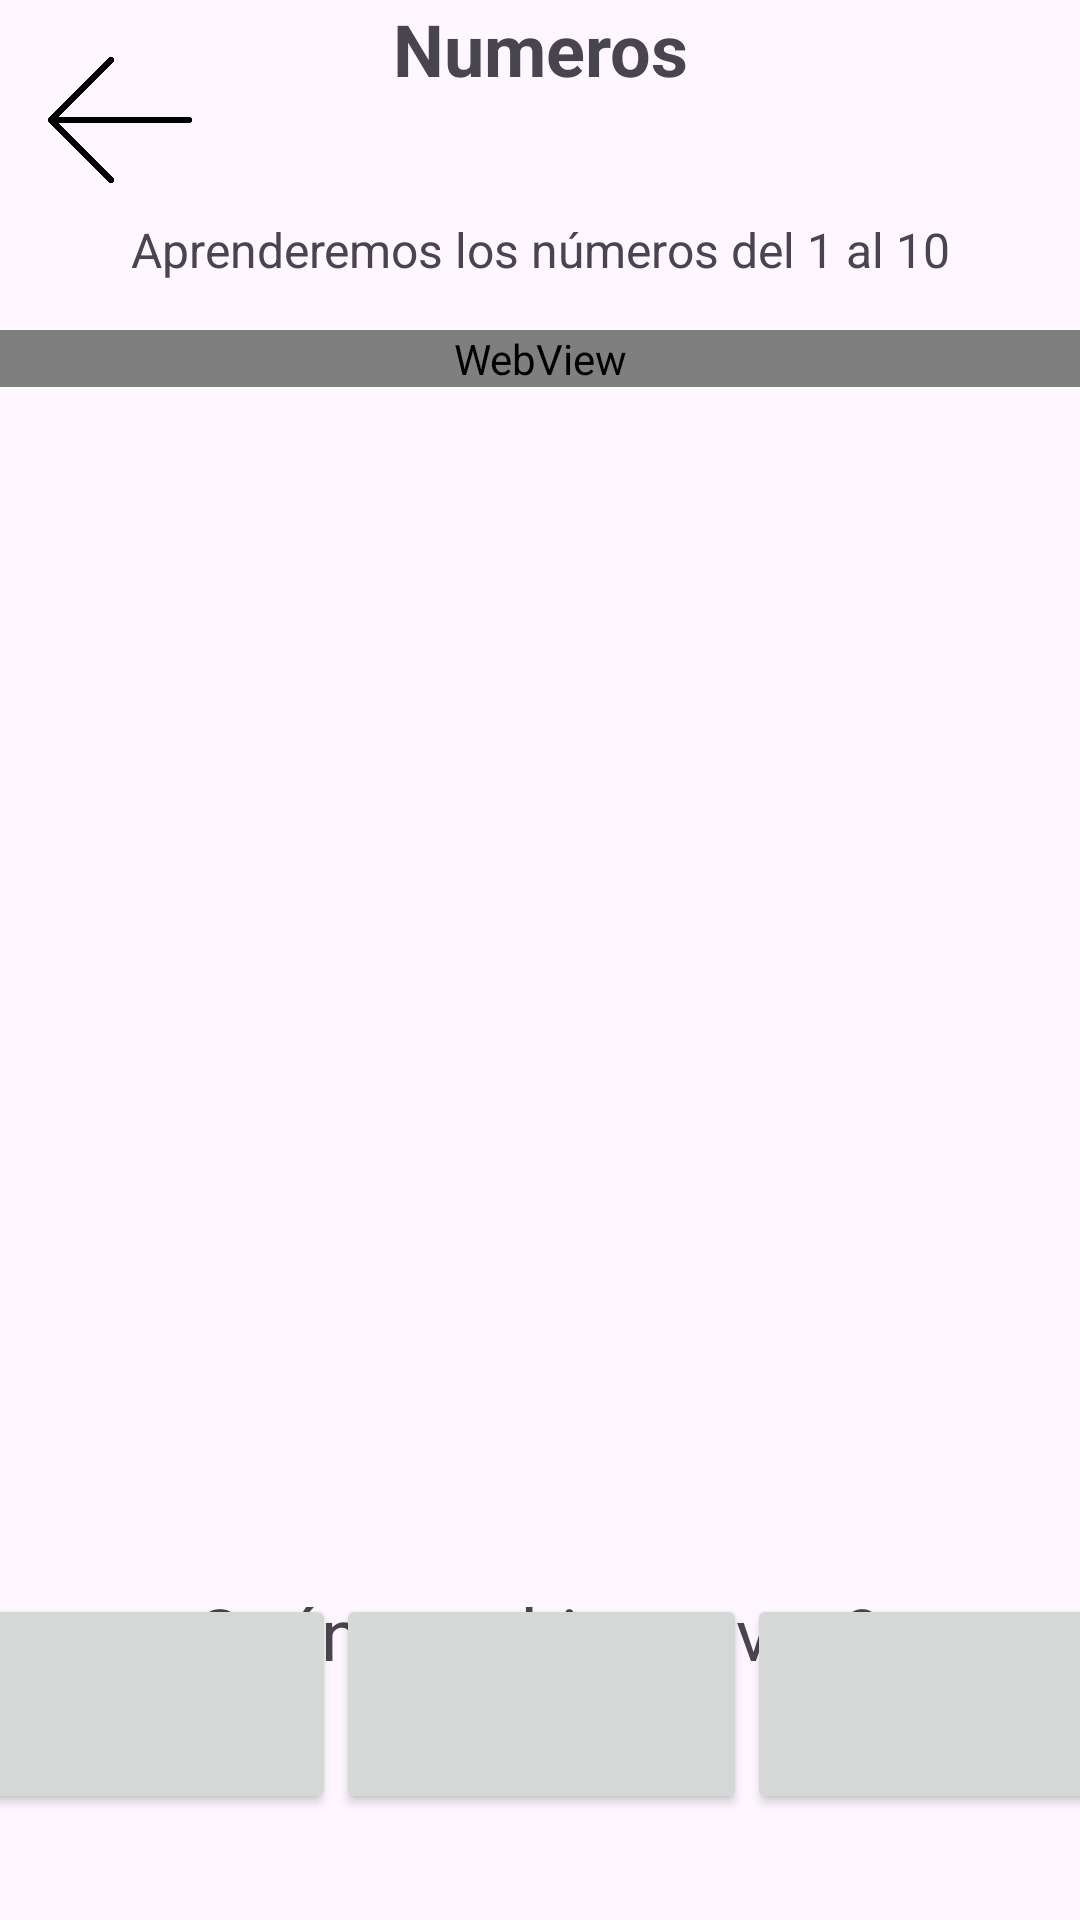

Where to tap for icons on this 1080w x 1920h app screen, as (x=x, y=y):
Botón de volver: (x=120, y=120)
